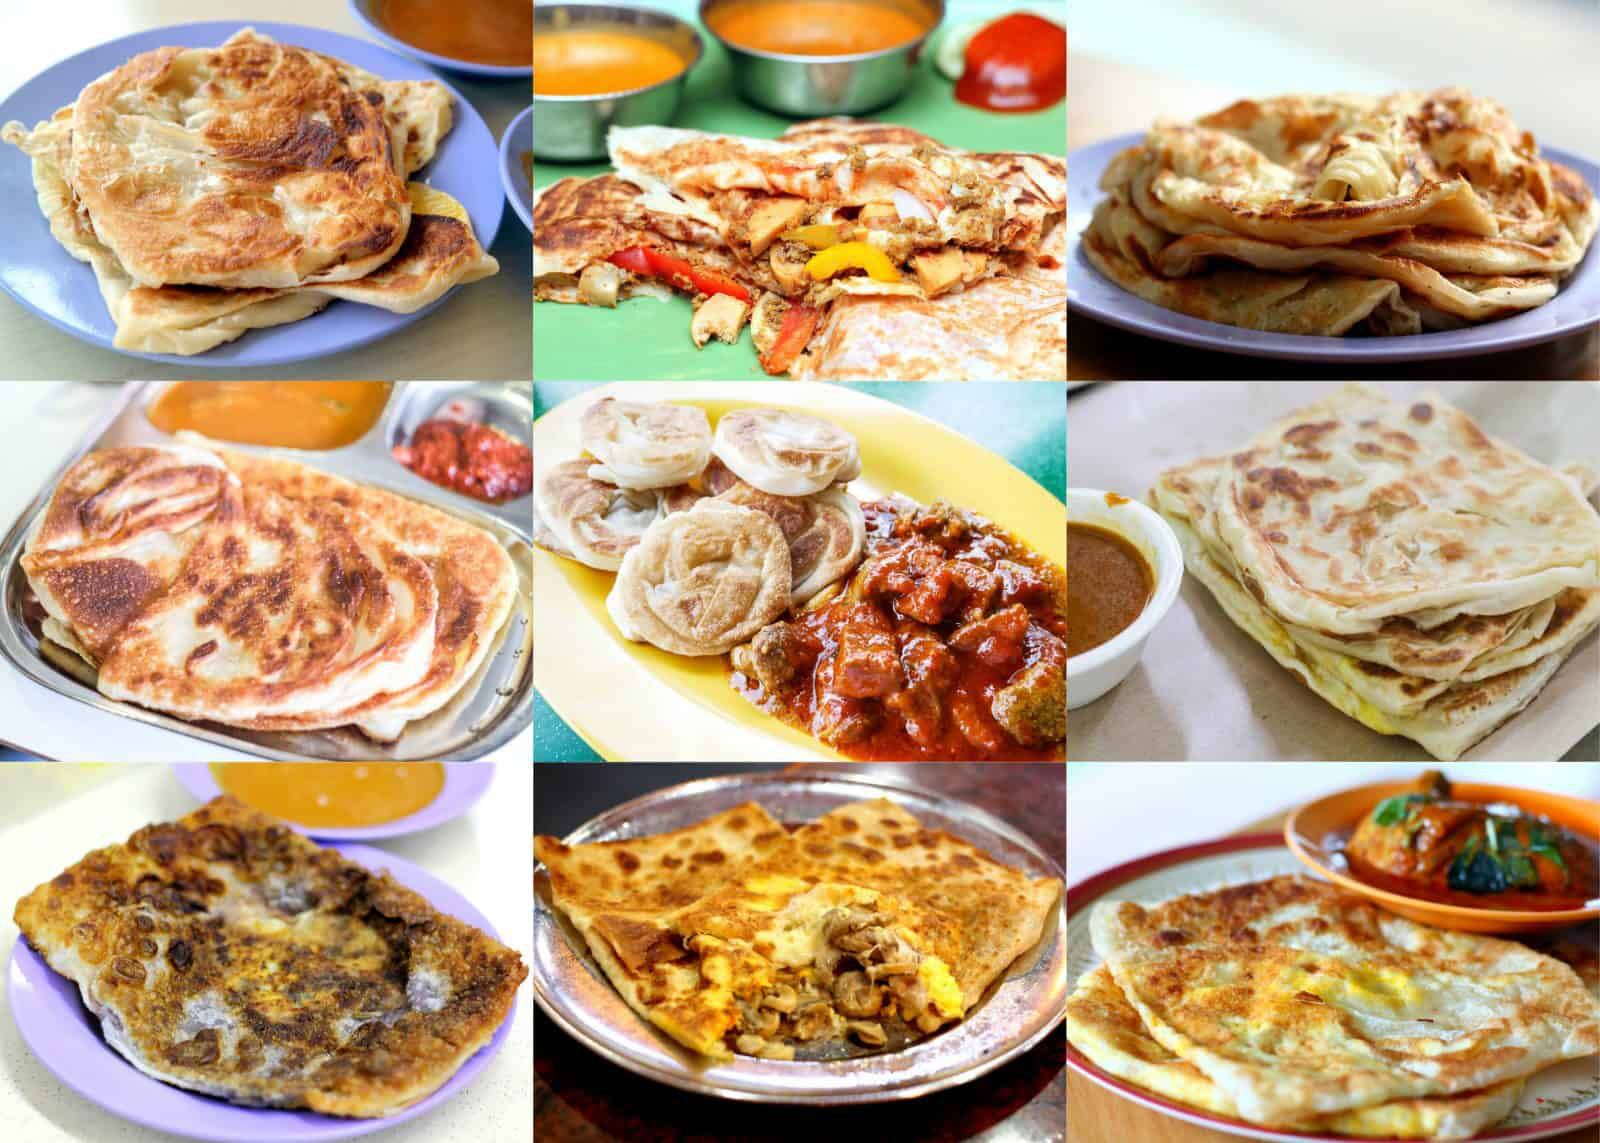Prata: (17, 809, 522, 1127), (1123, 77, 1583, 353), (12, 106, 487, 353), (1118, 876, 1548, 1142), (47, 435, 432, 726), (1187, 418, 1558, 682), (77, 49, 413, 285), (624, 495, 799, 646), (727, 403, 854, 510), (577, 388, 709, 487)
